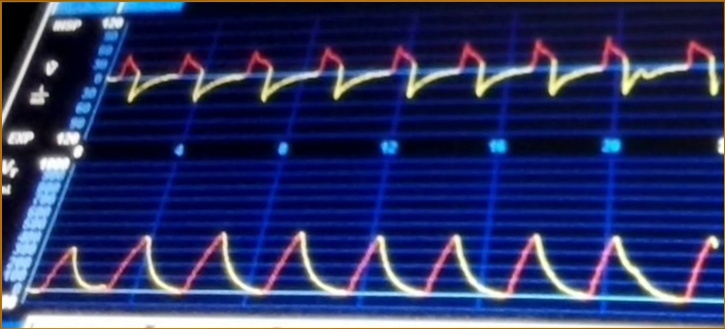Premature_cycling Flow: (115, 28, 722, 131)
Premature_cycling Volume: (42, 224, 718, 311)
